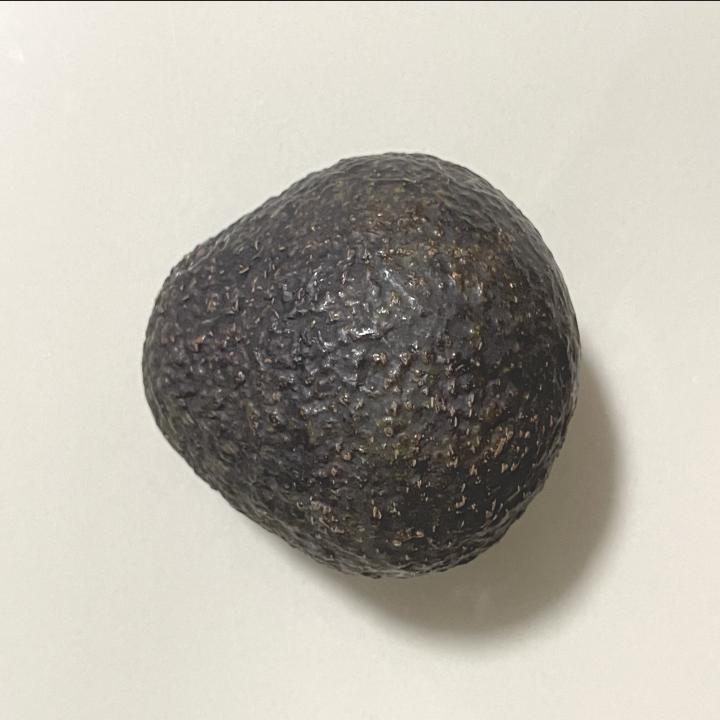Level2: (132, 140, 588, 586)
